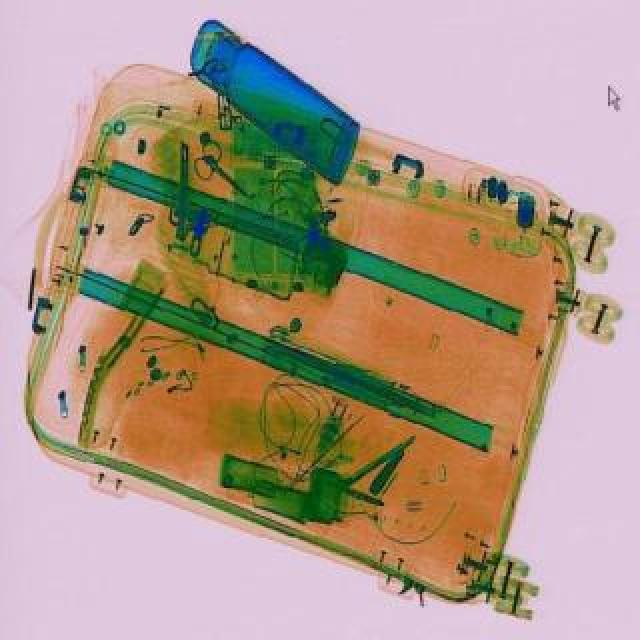pliers: (184, 138, 266, 210)
